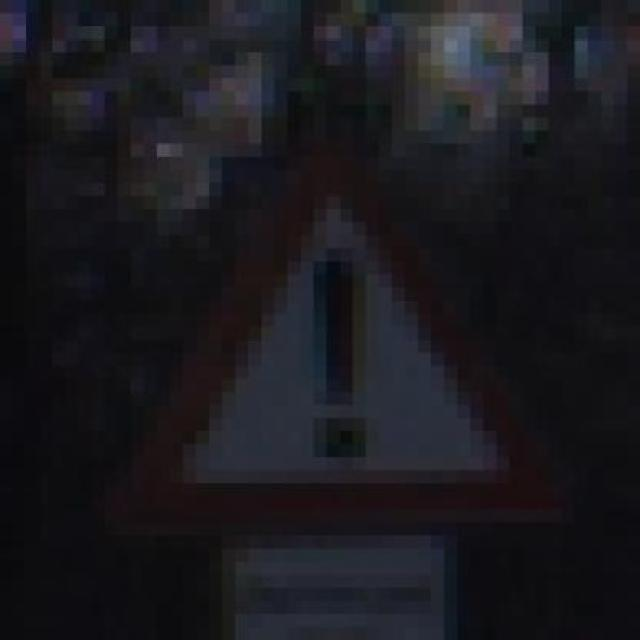Attention Please-: (78, 104, 600, 548)
